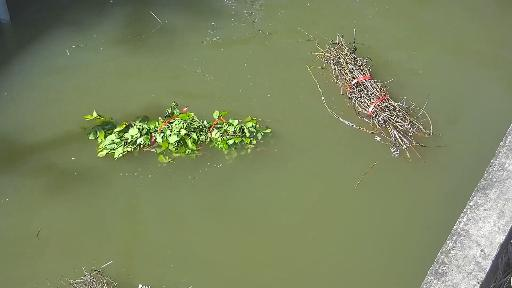twig: (301, 26, 411, 163), (65, 98, 282, 161), (42, 255, 150, 288)
